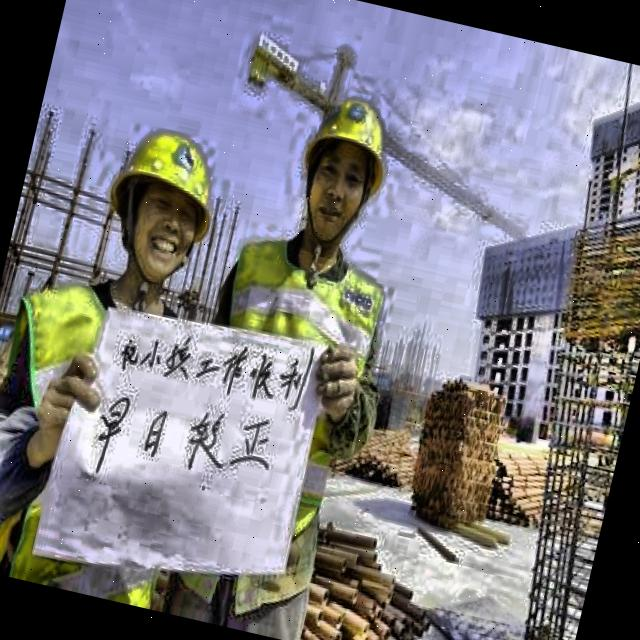helmet: (84, 115, 230, 298), (276, 86, 399, 266)
